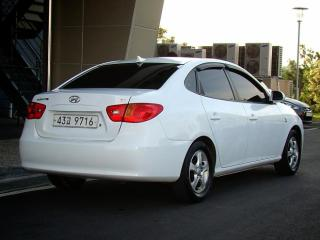1: (84, 117, 89, 125)
3: (62, 116, 66, 125)
4: (57, 116, 62, 125)
6: (88, 117, 94, 126)
7: (79, 116, 84, 125)
9: (74, 116, 79, 125)
plate: (51, 112, 103, 131)
고: (66, 116, 72, 125)
